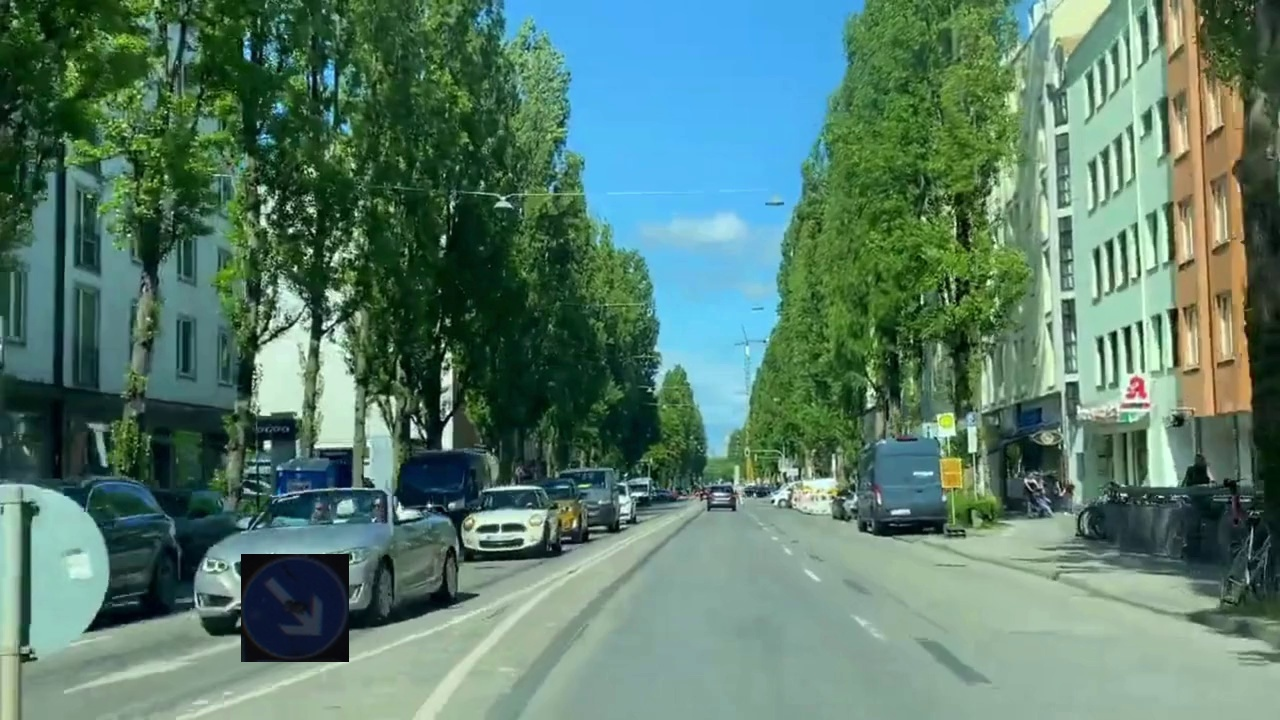Keep right: (241, 554, 349, 662)
